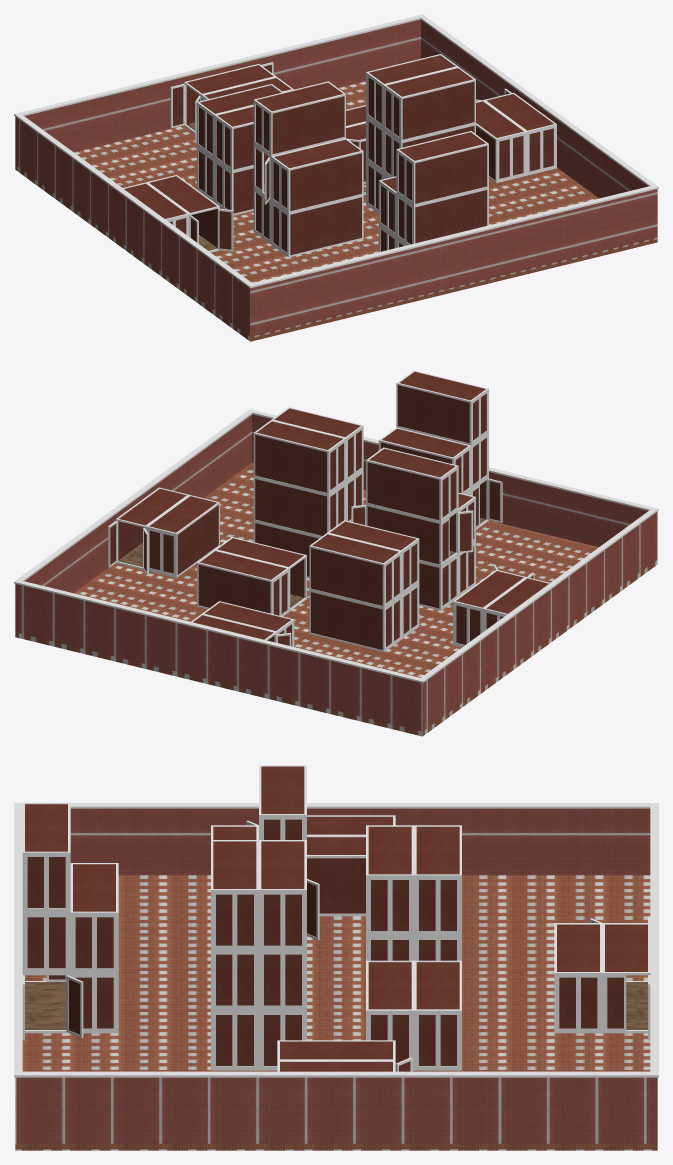
The model's file is environment.glb.
3 renders of one model, top to bottom at view 1: azimuth 30°, elevation 25°; view 2: azimuth 150°, elevation 25°; view 3: azimuth 270°, elevation 25°, orthographic. The views are drawn at different scales.
Parts seen in each view (by area): view 1: Body1036, Body1030, Body1037, Body838, walls (1) (1), walls (1) (7), walls (1) (8), Body812, walls (1), walls (9) (1), Body974, Body793 (+24 smaller); view 2: Body1036, Body1030, Body1037, Body840, Body811, walls (13) (1), walls (13) (6), walls (13) (5), walls (13) (2), walls (13) (4), walls (13) (8), Body998 (+30 smaller); view 3: Body1036, Body1030, Body1037, Body1024, Body995, Body834, walls (3) (1), walls (9) (1), walls (9) (4), walls (3) (4), walls (9) (6), walls (3) (6) (+56 smaller).
Boxes of the visible parts, box(x1,y1,x2,y2) form: Body1036: box(15, 19, 657, 336); Body1030: box(15, 81, 657, 341); Body1037: box(14, 14, 658, 288); Body838: box(272, 96, 344, 153); walls (1) (1): box(402, 82, 474, 139); walls (1) (7): box(290, 197, 361, 255); walls (1) (8): box(290, 153, 361, 211); Body812: box(415, 146, 486, 203); walls (1): box(415, 190, 486, 243); walls (9) (1): box(369, 55, 455, 83); Body974: box(187, 65, 273, 93); Body793: box(399, 132, 485, 160); Body1036: box(15, 414, 657, 731); Body1030: box(15, 463, 657, 736); Body1037: box(14, 409, 658, 682); Body840: box(367, 462, 439, 520); Body811: box(398, 385, 469, 443); walls (13) (1): box(255, 435, 326, 492); walls (13) (6): box(311, 548, 382, 605); walls (13) (5): box(311, 592, 382, 649); walls (13) (2): box(255, 479, 326, 535); walls (13) (4): box(198, 565, 270, 613); walls (13) (8): box(367, 506, 439, 564); Body998: box(177, 505, 218, 574); Body1036: box(15, 808, 657, 1143); Body1030: box(15, 875, 657, 1150); Body1037: box(14, 803, 658, 1077); Body1024: box(307, 858, 365, 913); Body995: box(280, 1041, 392, 1059); Body834: box(261, 766, 304, 813); walls (3) (1): box(213, 841, 256, 888); walls (9) (1): box(261, 841, 304, 888); walls (9) (4): box(416, 962, 459, 1009); walls (3) (4): box(368, 962, 411, 1009); walls (9) (6): box(416, 827, 459, 874); walls (3) (6): box(368, 827, 411, 874).
Size of the model in its own units: 29.58 by 9.48 by 29.58.
6 materials, 6 textured.
